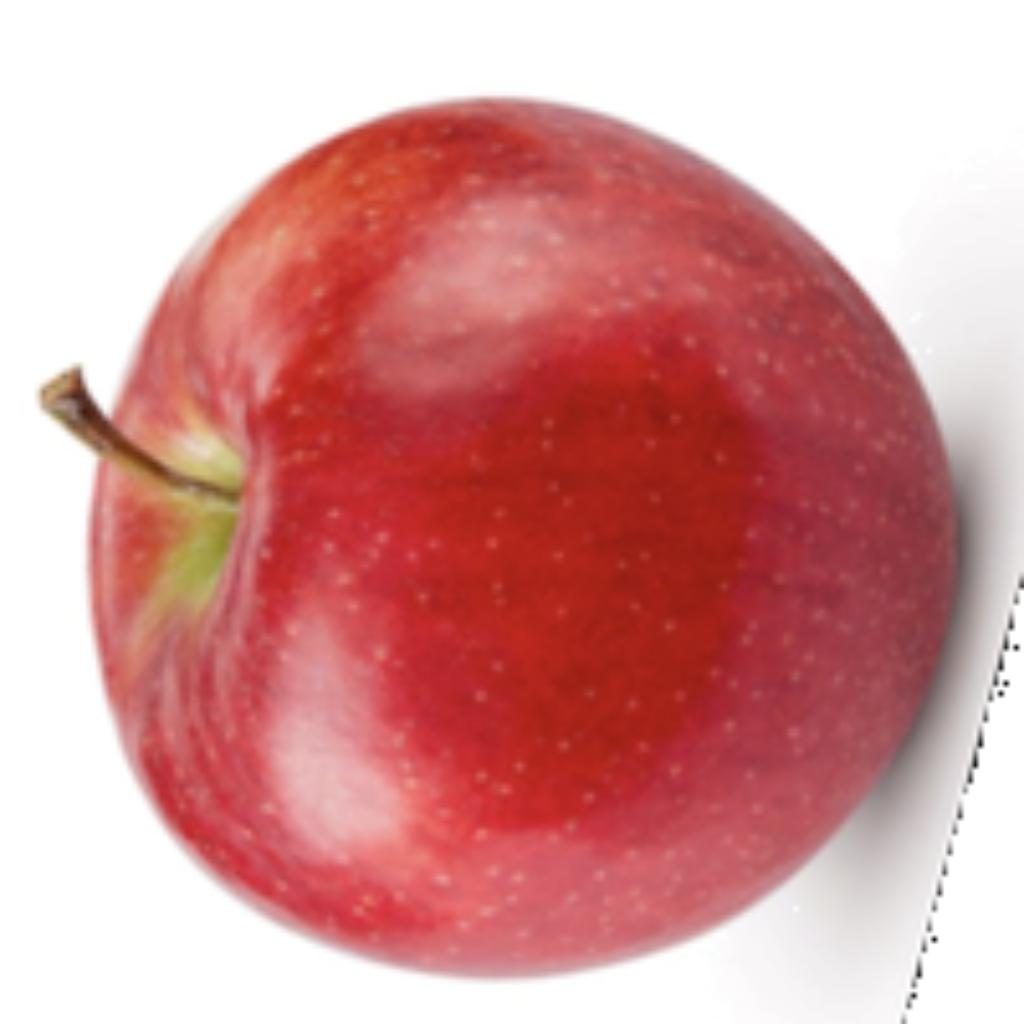apple: (31, 87, 1019, 1019)
